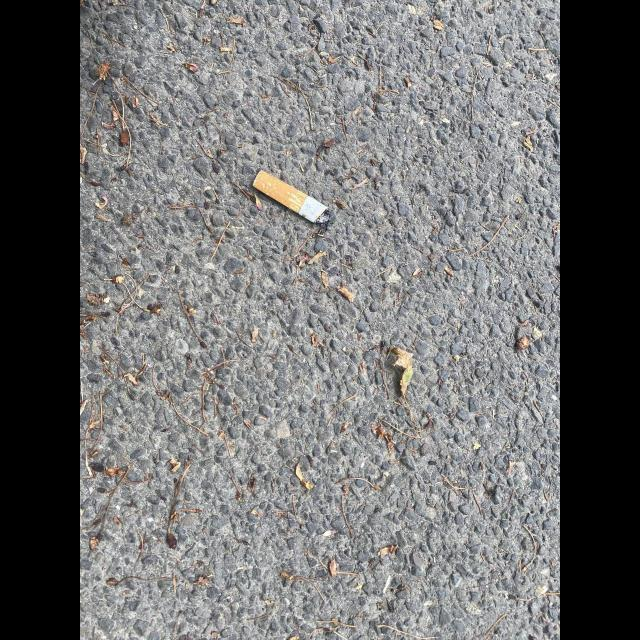cigarette: (252, 170, 330, 224)
